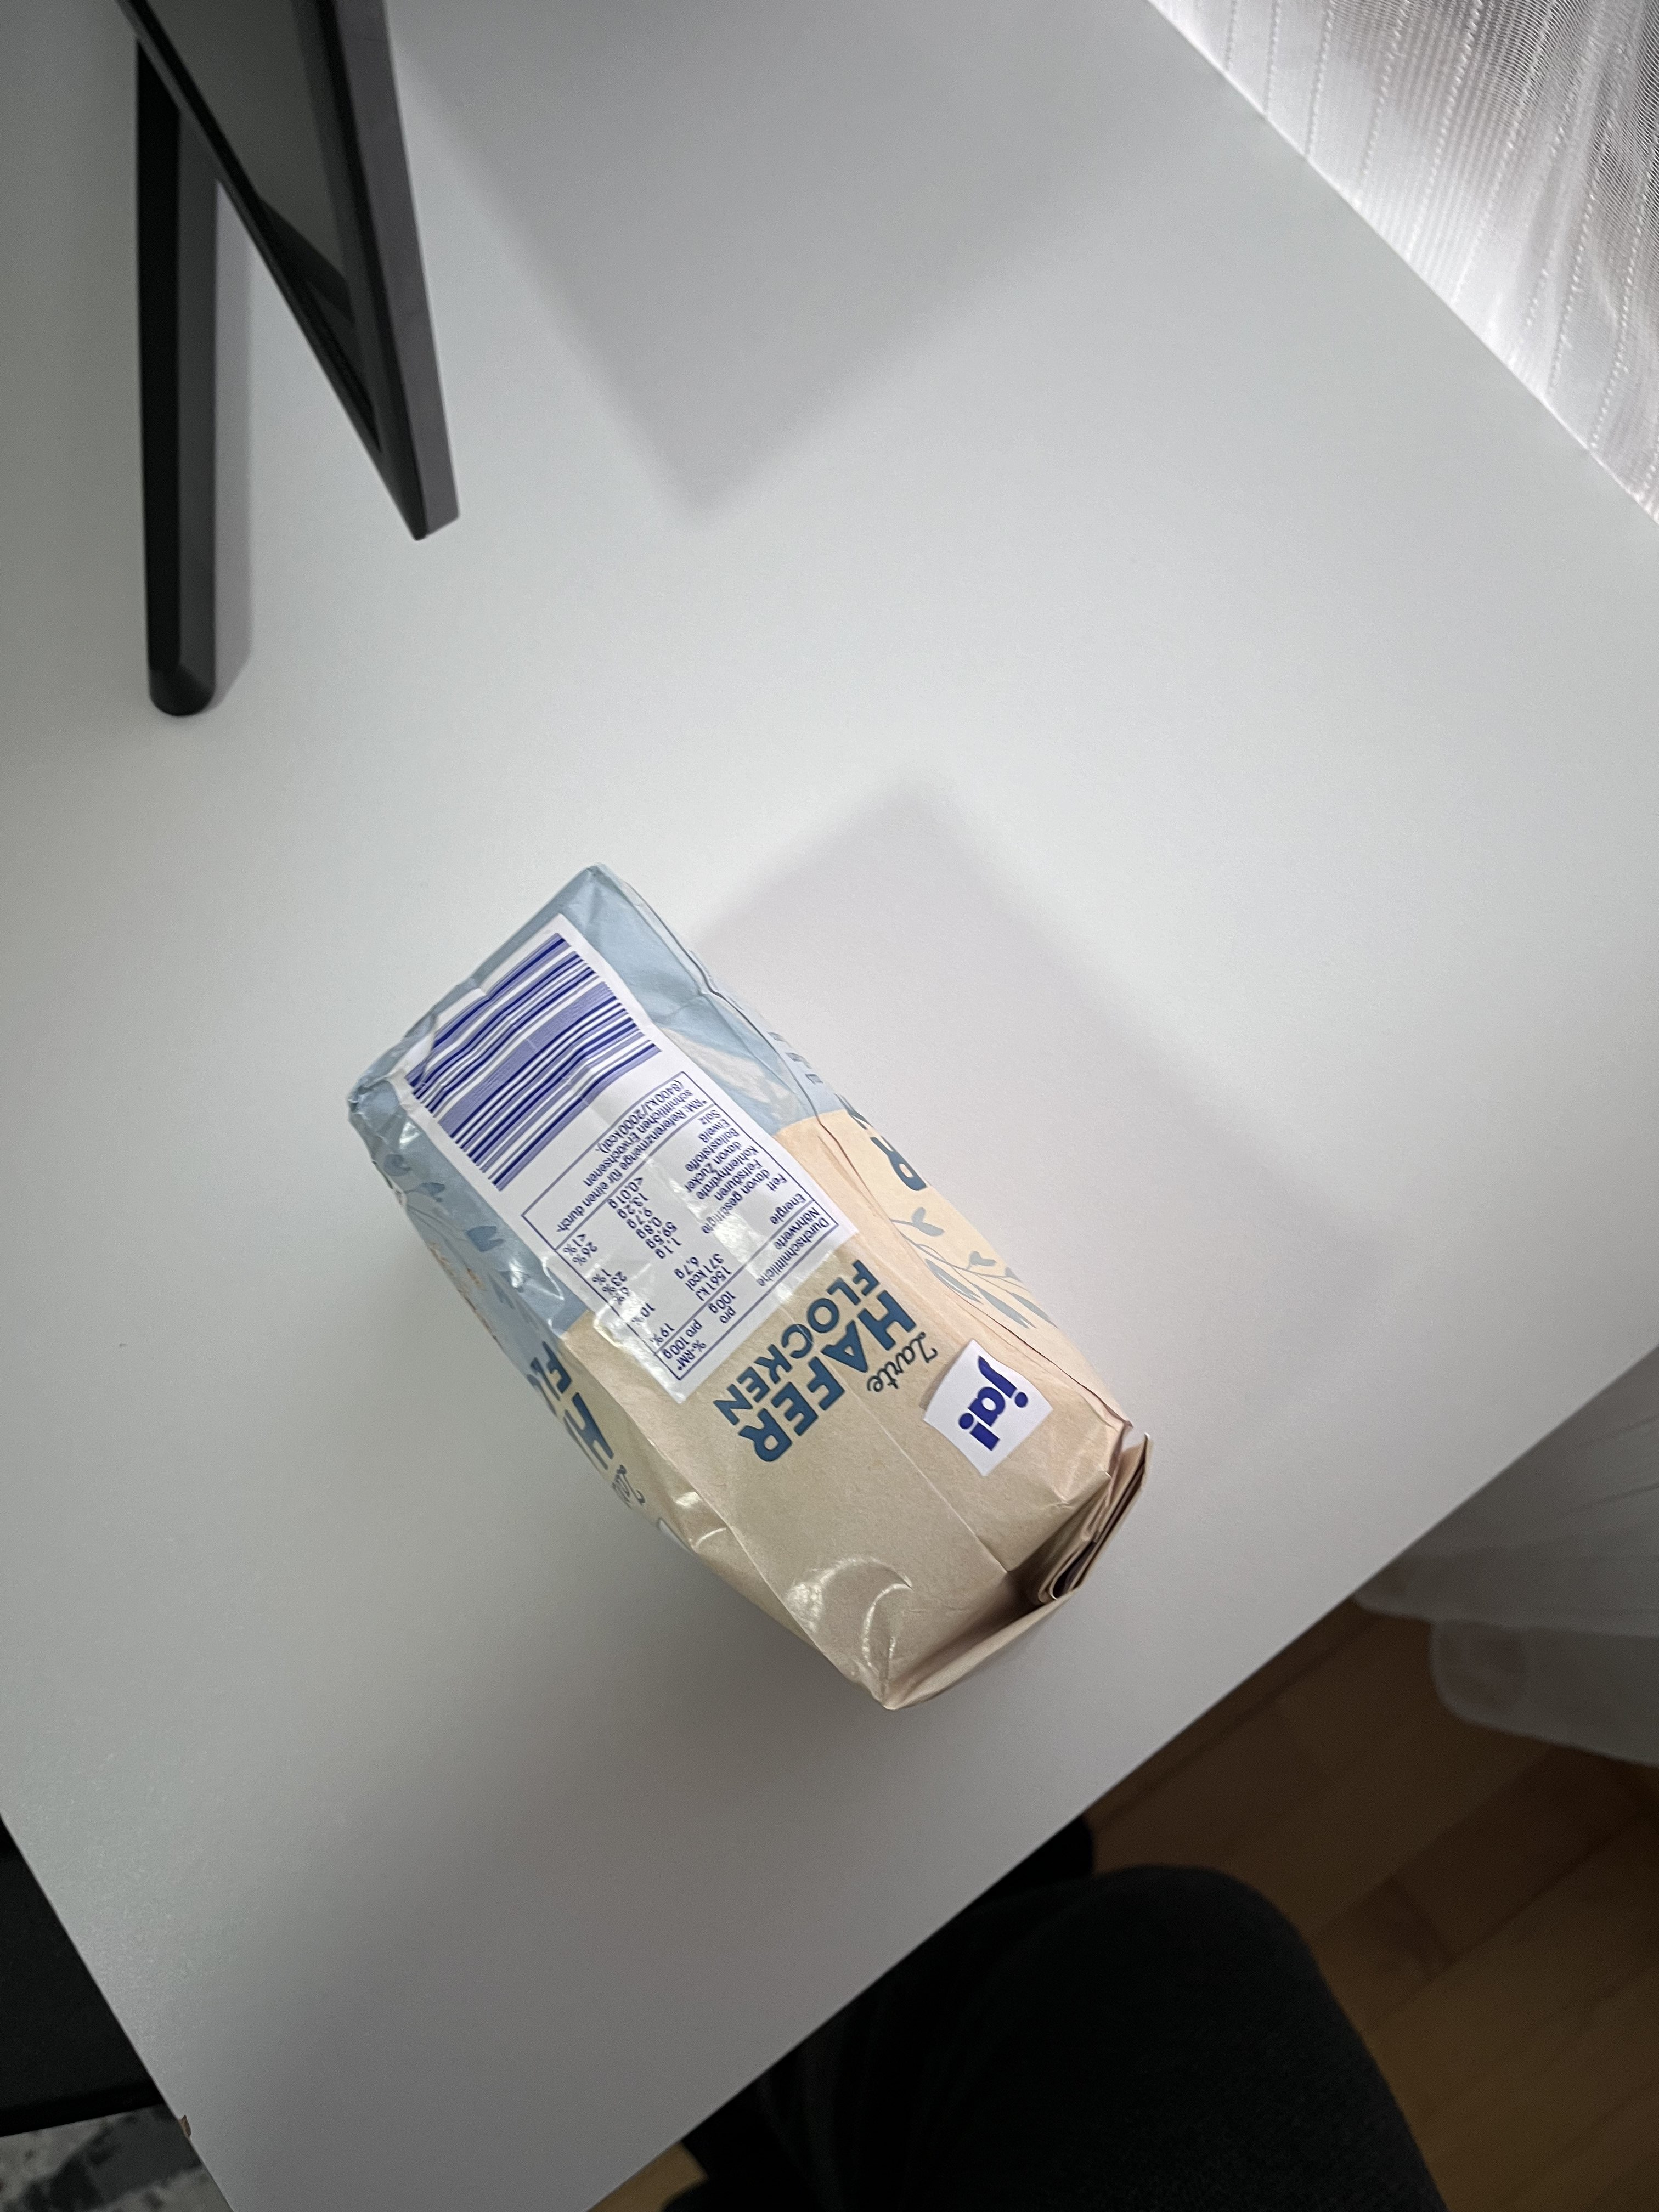haferflocken_ja: (343, 869, 1152, 1714)
